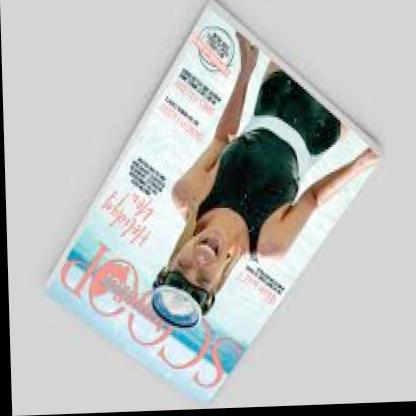Paper: (20, 0, 384, 413)
